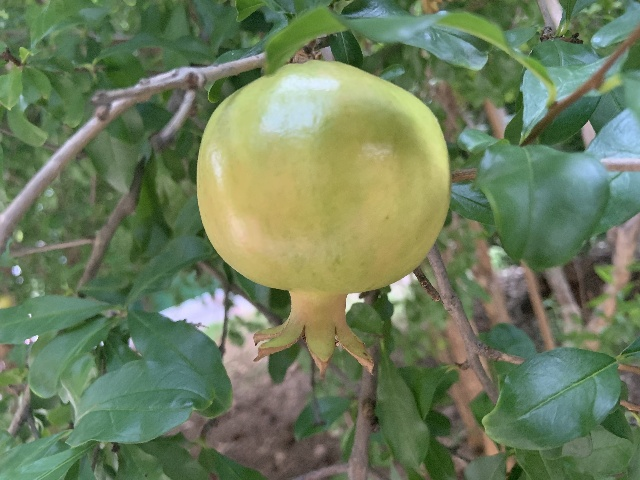mid-growth: (194, 60, 453, 383)
